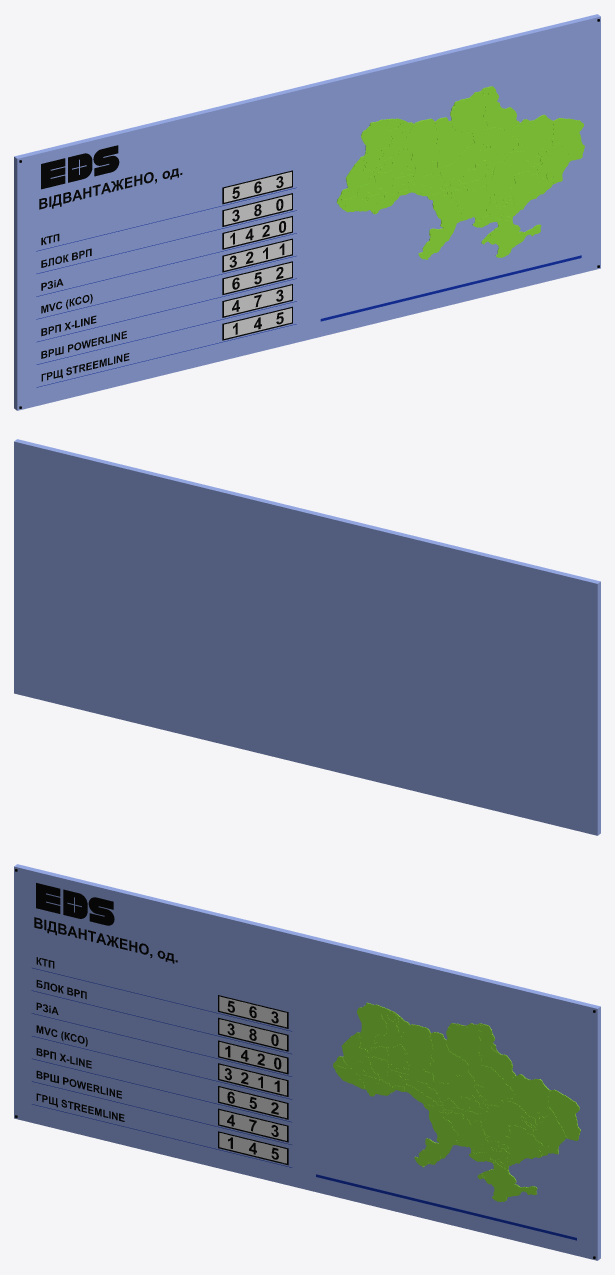
The model's file is edsUkraine-3.glb.
The picture shows the model from 3 angles, top to bottom: view 1: azimuth 30°, elevation 25°; view 2: azimuth 150°, elevation 25°; view 3: azimuth 330°, elevation 25°; orthographic projection.
Visible parts, largest first — view 1: ukraine-3/EDS_ukraine_backing_lavender, ukraine-3/EDS_ukraine_3d-map_lime, ukraine-3/EDS_ukraine_replaceable-screen_white, ukraine-3/EDS_ukraine_ink_black, ukraine-3/EDS_ukraine_ink_blue, ukraine-3/EDS_ukraine_replaceable-frame_black, ukraine-3/EDS_ukraine_replaceable-print_black; view 2: ukraine-3/EDS_ukraine_backing_lavender; view 3: ukraine-3/EDS_ukraine_backing_lavender, ukraine-3/EDS_ukraine_3d-map_lime, ukraine-3/EDS_ukraine_replaceable-screen_white, ukraine-3/EDS_ukraine_ink_black, ukraine-3/EDS_ukraine_ink_blue, ukraine-3/EDS_ukraine_replaceable-frame_black, ukraine-3/EDS_ukraine_replaceable-print_black.
Part boxes in pixels (x1,y1,x2,y2): ukraine-3/EDS_ukraine_backing_lavender: (14, 14, 600, 410); ukraine-3/EDS_ukraine_3d-map_lime: (336, 86, 584, 259); ukraine-3/EDS_ukraine_replaceable-screen_white: (224, 172, 291, 338); ukraine-3/EDS_ukraine_ink_black: (39, 145, 182, 381); ukraine-3/EDS_ukraine_ink_blue: (36, 187, 581, 387); ukraine-3/EDS_ukraine_replaceable-frame_black: (222, 170, 292, 340); ukraine-3/EDS_ukraine_replaceable-print_black: (229, 176, 285, 334); ukraine-3/EDS_ukraine_backing_lavender: (14, 439, 600, 835); ukraine-3/EDS_ukraine_backing_lavender: (14, 864, 600, 1260); ukraine-3/EDS_ukraine_3d-map_lime: (333, 1002, 580, 1201); ukraine-3/EDS_ukraine_replaceable-screen_white: (219, 996, 286, 1163); ukraine-3/EDS_ukraine_ink_black: (34, 883, 177, 1121); ukraine-3/EDS_ukraine_ink_blue: (31, 968, 576, 1240); ukraine-3/EDS_ukraine_replaceable-frame_black: (218, 995, 288, 1165); ukraine-3/EDS_ukraine_replaceable-print_black: (224, 1000, 281, 1159).
Size of the model in its own units: 3.2 by 1.32 by 0.04.
